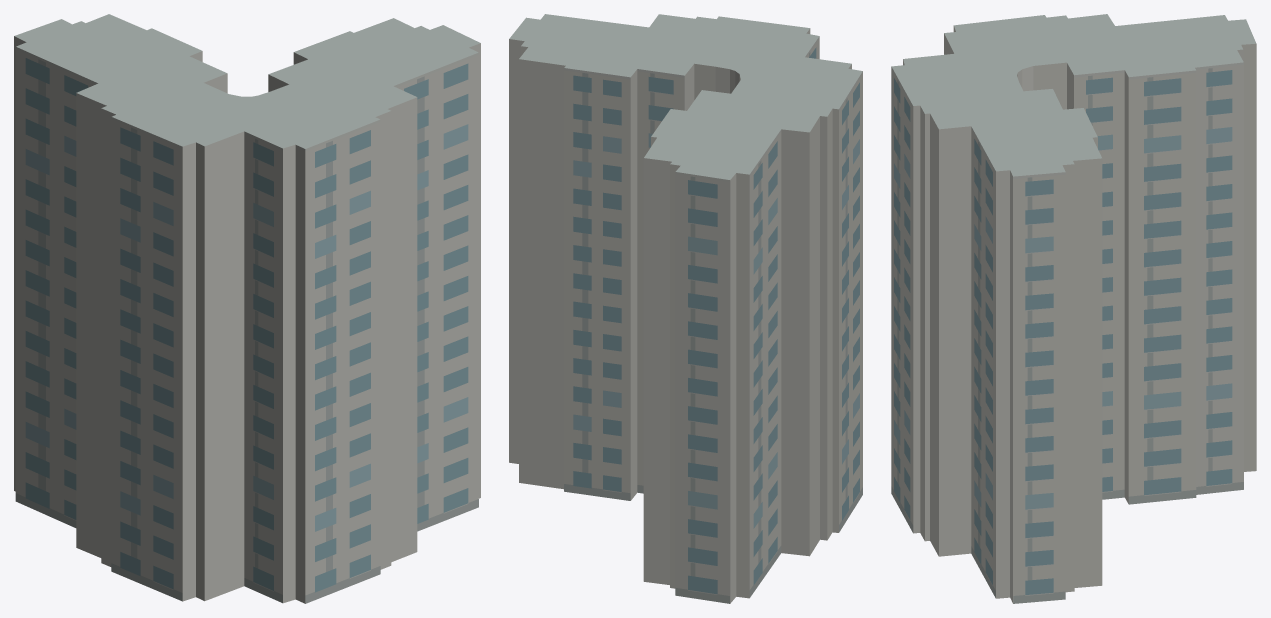
The model's file is residential-60d92c13-5cac-49e3-ae4d-a7992a3b1cb2.glb.
3 views of the same model, side by side, from view 1: azimuth 30°, elevation 25°; view 2: azimuth 150°, elevation 25°; view 3: azimuth 270°, elevation 25° (orthographic). The views are drawn at different scales.
Visible parts, largest first — view 1: residential-60d92c13-5cac-49e3-ae4d-a7992a3b1cb2.tmp; view 2: residential-60d92c13-5cac-49e3-ae4d-a7992a3b1cb2.tmp; view 3: residential-60d92c13-5cac-49e3-ae4d-a7992a3b1cb2.tmp.
Part boxes in pixels (left/top/right/bottom): residential-60d92c13-5cac-49e3-ae4d-a7992a3b1cb2.tmp: left=14, top=14, right=480, bottom=603; residential-60d92c13-5cac-49e3-ae4d-a7992a3b1cb2.tmp: left=509, top=14, right=862, bottom=603; residential-60d92c13-5cac-49e3-ae4d-a7992a3b1cb2.tmp: left=891, top=14, right=1256, bottom=603.
Bounding box in the file's own units: 36.72 × 45 × 34.84.
